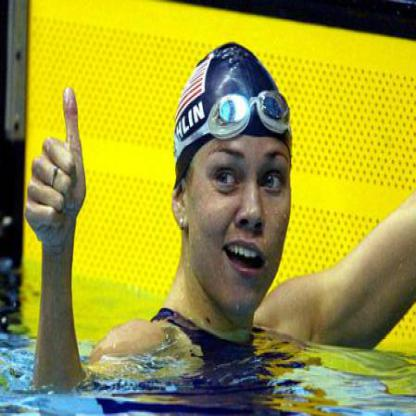face: (187, 47, 298, 314)
